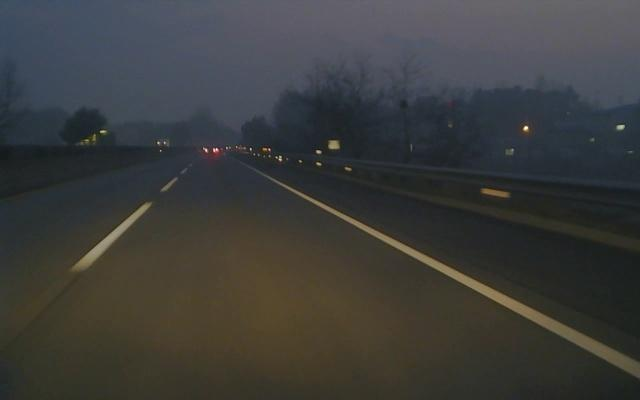lane: (254, 170, 640, 379), (64, 170, 186, 273)
